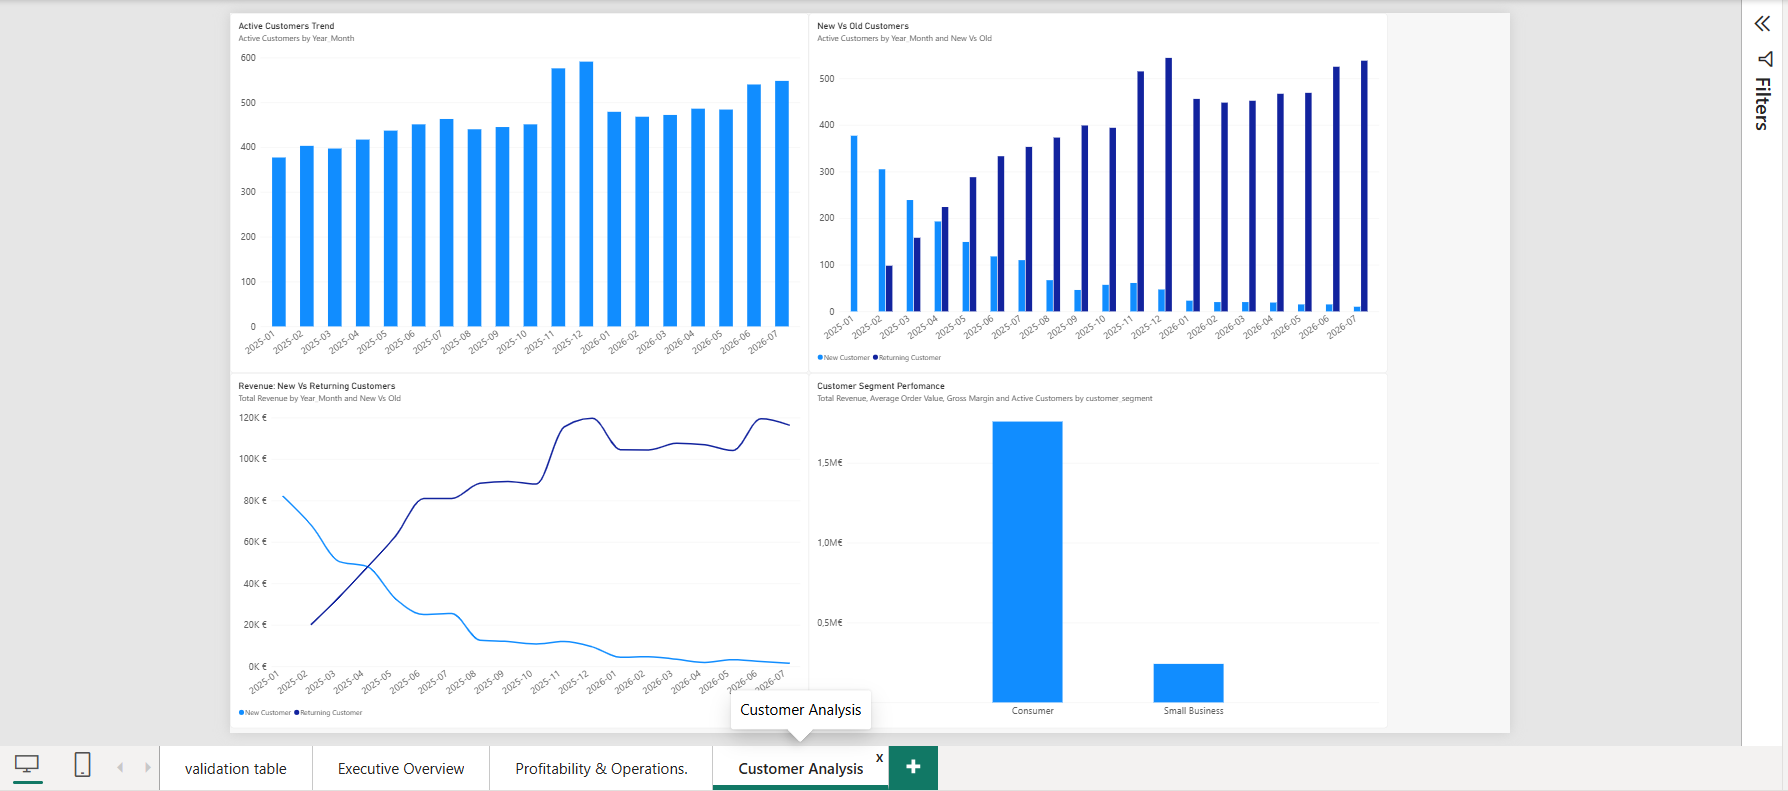

The page's visual inventory and layout, read from the dashboard file:
{"tool":"powerbi","page":{"name":"Customer Analysis","canvas":[2560,1440],"ordinal":3},"visuals":[{"type":"clusteredColumnChart","title":"Active Customers Trend","fields":{"Y":["CalendarTable.Active Customers"],"Category":["CalendarTable.Year_Month"]},"box":[0,0,1157.8,720],"z":0},{"type":"clusteredColumnChart","title":"New Vs Returning Customers","fields":{"Y":["CalendarTable.Active Customers"],"Category":["CalendarTable.Year_Month"],"Series":["urbancart_analytics orders.New Vs Old"]},"box":[1157.8,0,1157.8,720],"z":1},{"type":"lineChart","title":"Revenue: New Vs Returning Customers","fields":{"Category":["CalendarTable.Year_Month"],"Y":["urbancart_analytics order_items.Total Revenue"],"Series":["urbancart_analytics orders.New Vs Old"]},"box":[0,720,1157.5,720],"z":2},{"type":"clusteredColumnChart","title":"Customer Segment Perfomance","fields":{"Category":["urbancart_analytics customers.customer_segment"],"Y":["urbancart_analytics order_items.Total Revenue"]},"box":[1157.5,720,1157.5,720],"z":3}]}

Visuals, with their boxes on the page's 2560x1440 design canvas (x1, y1, x2, y2). These are canvas units, not pixel positions in the 1788x791 screenshot, which may show the page scaled, cropped or inside an application window:
"Active Customers Trend" clusteredColumnChart: (left=0, top=0, right=1158, bottom=720)
"New Vs Returning Customers" clusteredColumnChart: (left=1158, top=0, right=2316, bottom=720)
"Revenue: New Vs Returning Customers" lineChart: (left=0, top=720, right=1158, bottom=1440)
"Customer Segment Perfomance" clusteredColumnChart: (left=1158, top=720, right=2315, bottom=1440)
